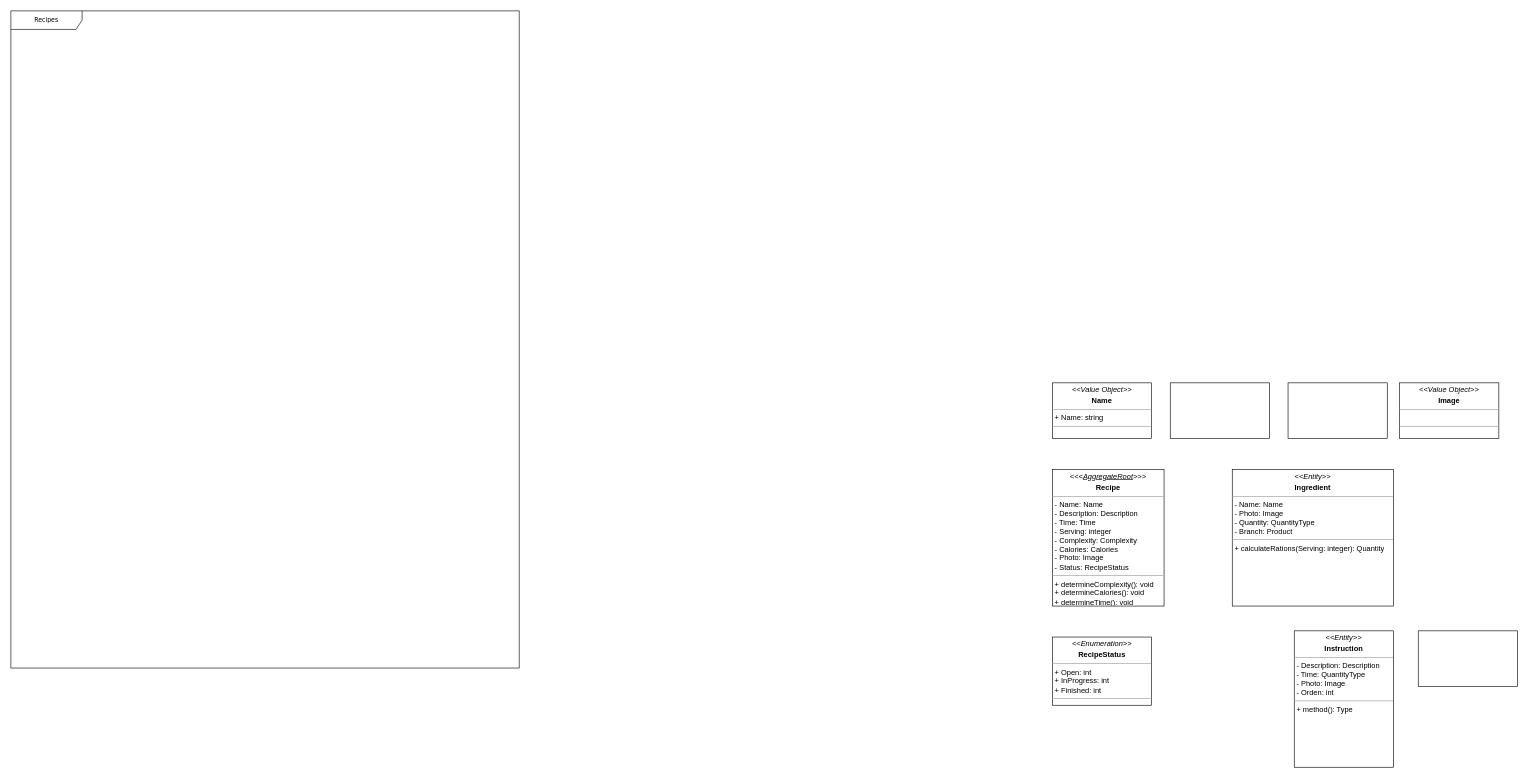
Some shapes in this 1528 by 778 pixel diagram are drawn without their labels. The box of each missing label's shape, as (x1, y1, x2, y2) in pixels:
<<Entity>> Tools - Name: Name: (1418, 630, 1517, 687)
<<Value Object>> Description + Description: string: (1170, 382, 1269, 439)
<<Value Object>> Product + Name: Name: (1287, 382, 1387, 439)
